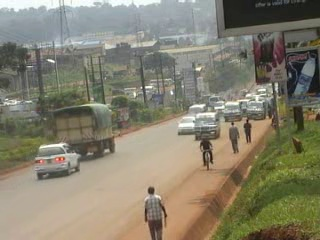Car: (30, 142, 84, 179), (173, 114, 196, 139), (212, 100, 225, 114)
